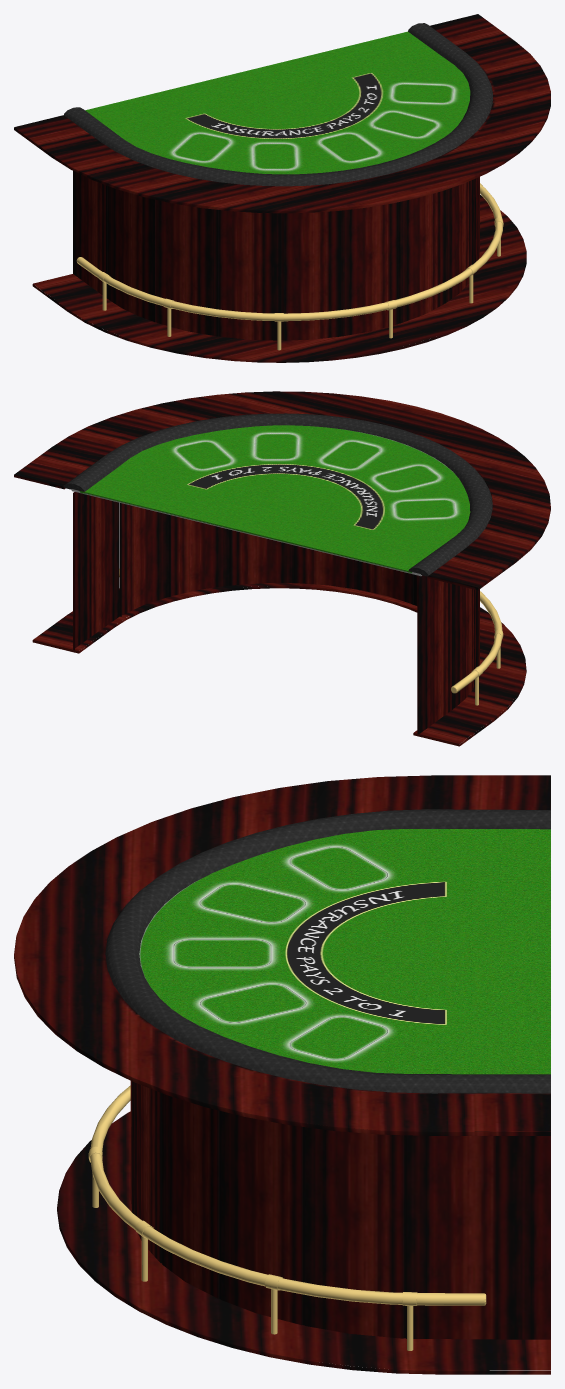
The model's file is cs_blackjack_table.fbx.
3 renders of one model, top to bottom at view 1: azimuth 30°, elevation 25°; view 2: azimuth 150°, elevation 25°; view 3: azimuth 270°, elevation 25°, orthographic. The views are drawn at different scales.
Parts seen in each view (by area): view 1: cs_blackjack_table_LOD0; view 2: cs_blackjack_table_LOD0; view 3: cs_blackjack_table_LOD0.
Part boxes in pixels (x1,y1,x2,y2): cs_blackjack_table_LOD0: (14,14,550,362); cs_blackjack_table_LOD0: (14,391,550,746); cs_blackjack_table_LOD0: (14,775,550,1374).
Size of what is drawn, in the model's own units: 2.6 by 0.9027 by 1.65.
1 material, 1 textured.
